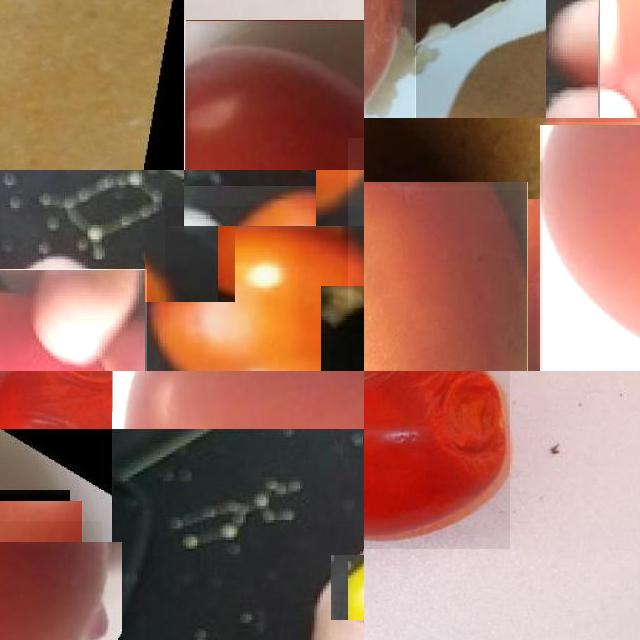Fresh Tomato: (164, 205, 364, 371), (364, 190, 537, 371), (184, 20, 364, 170), (542, 121, 640, 371), (0, 269, 147, 371), (0, 521, 102, 640)
Rotten Tomato: (364, 371, 510, 549), (0, 371, 112, 429)
